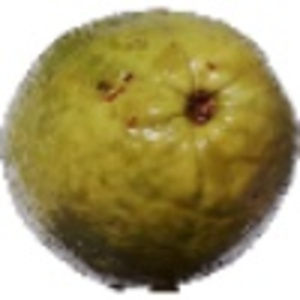goiaba: (10, 6, 298, 280)
